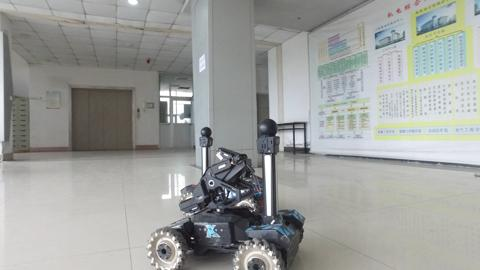chariot: (143, 118, 306, 270), (182, 125, 263, 218)
